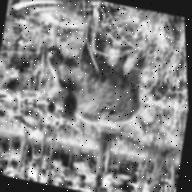boar: (27, 27, 167, 146)
